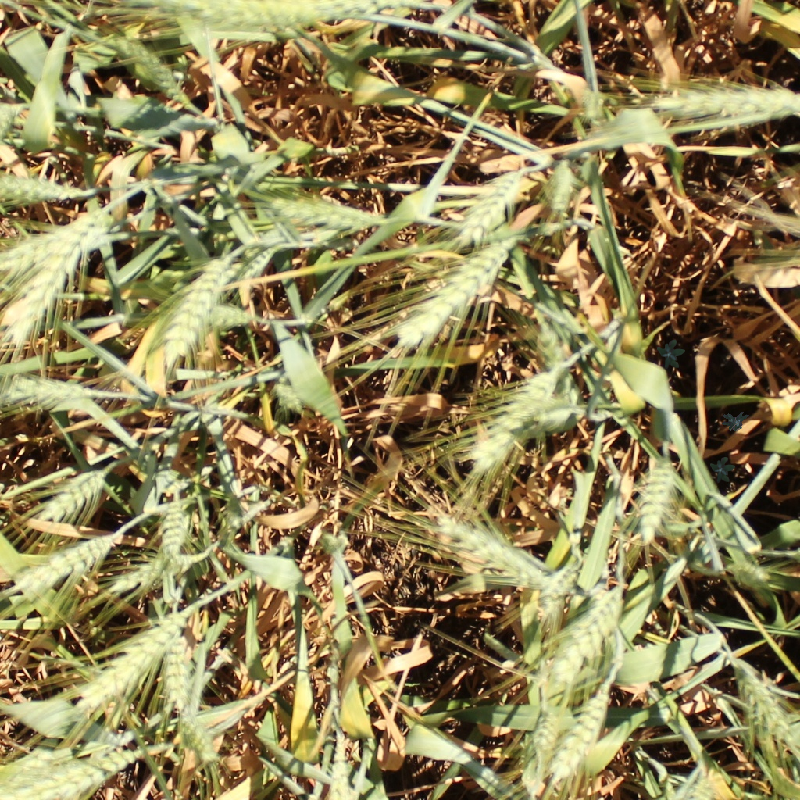spikelet: (393, 232, 517, 348), (2, 210, 108, 343), (78, 610, 186, 710), (468, 368, 558, 471), (1, 722, 133, 788), (433, 512, 548, 587), (160, 252, 235, 362), (7, 739, 136, 799), (547, 587, 624, 686), (1, 213, 131, 271), (731, 660, 799, 766), (650, 83, 799, 128), (13, 533, 115, 595), (551, 688, 612, 781), (113, 32, 191, 103), (158, 1, 283, 42), (458, 168, 529, 239), (229, 1, 405, 28), (517, 706, 567, 797), (270, 193, 384, 231), (1, 373, 95, 414), (634, 457, 679, 542), (40, 467, 109, 520), (159, 628, 197, 710), (1, 171, 83, 207), (535, 558, 581, 619), (174, 712, 222, 763), (156, 501, 194, 559), (541, 157, 579, 214), (208, 122, 252, 163), (728, 558, 772, 591), (270, 378, 305, 415), (317, 528, 349, 559), (1, 99, 22, 146)
weed: (718, 402, 751, 436), (657, 340, 685, 369), (710, 457, 735, 483)
